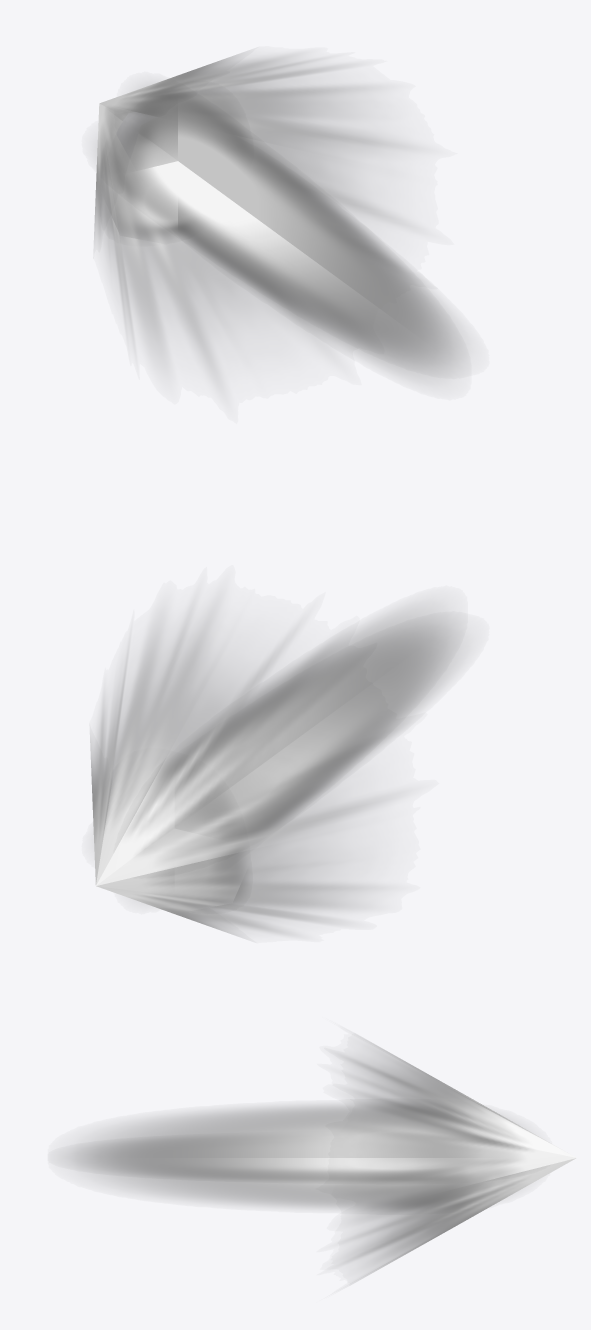
Rendered from si_eoa_1010.glb.
The picture shows the model from 3 angles, top to bottom: view 1: azimuth 30°, elevation 25°; view 2: azimuth 150°, elevation 25°; view 3: azimuth 270°, elevation 25°; orthographic projection. The views are drawn at different scales.
Parts seen in each view (by area): view 1: layer_01_si_est_0103, layer_00_si_est_0004; view 2: layer_00_si_est_0004, layer_01_si_est_0103; view 3: layer_01_si_est_0103, layer_00_si_est_0004.
Boxes of the visible parts, x1,y1,x2,y2 form: layer_01_si_est_0103: (106,89,465,377); layer_00_si_est_0004: (94,54,400,372); layer_00_si_est_0004: (90,615,383,935); layer_01_si_est_0103: (143,609,462,905); layer_01_si_est_0103: (64,1105,507,1208); layer_00_si_est_0004: (342,1040,576,1277).
Bounding box in the file's own units: 6 × 6 × 10.05.
2 materials, 2 textured.
